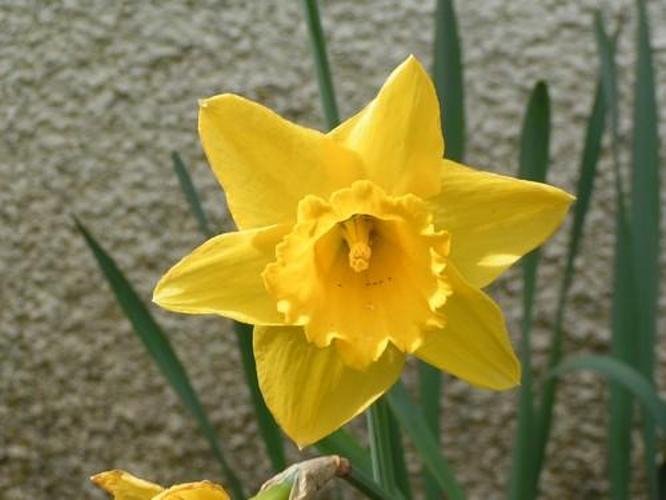flower1: (150, 56, 576, 450)
